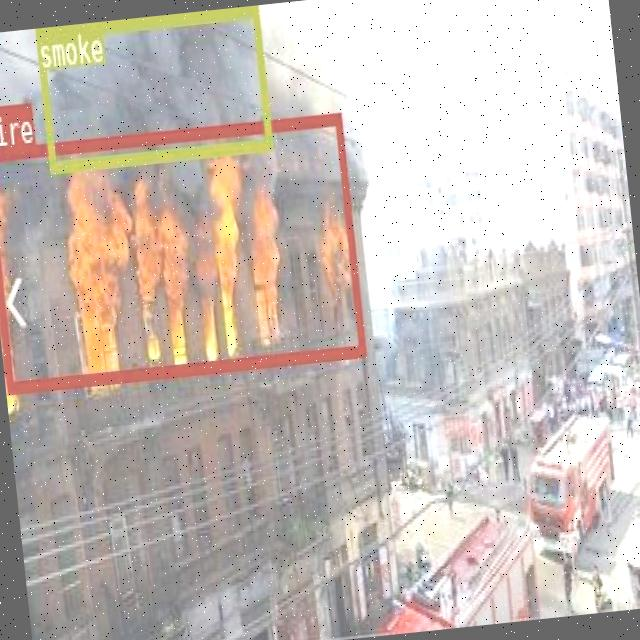fire: (0, 110, 364, 390)
smoke: (34, 5, 271, 172)
